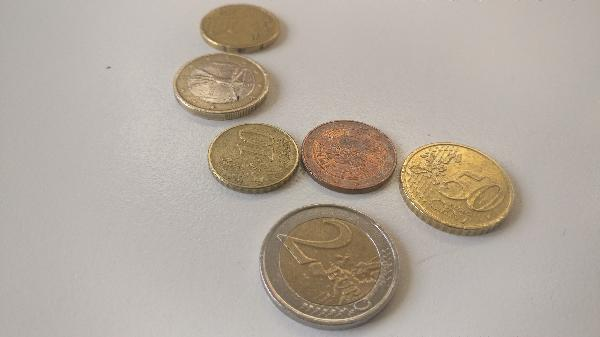Fifty Cent: (399, 139, 514, 238)
Five Cent: (301, 117, 398, 191)
One Euro: (173, 54, 268, 121)
Ten Cent: (203, 122, 298, 194)
Twenty Cent: (200, 2, 282, 52)
Two Euro: (258, 200, 407, 329)
